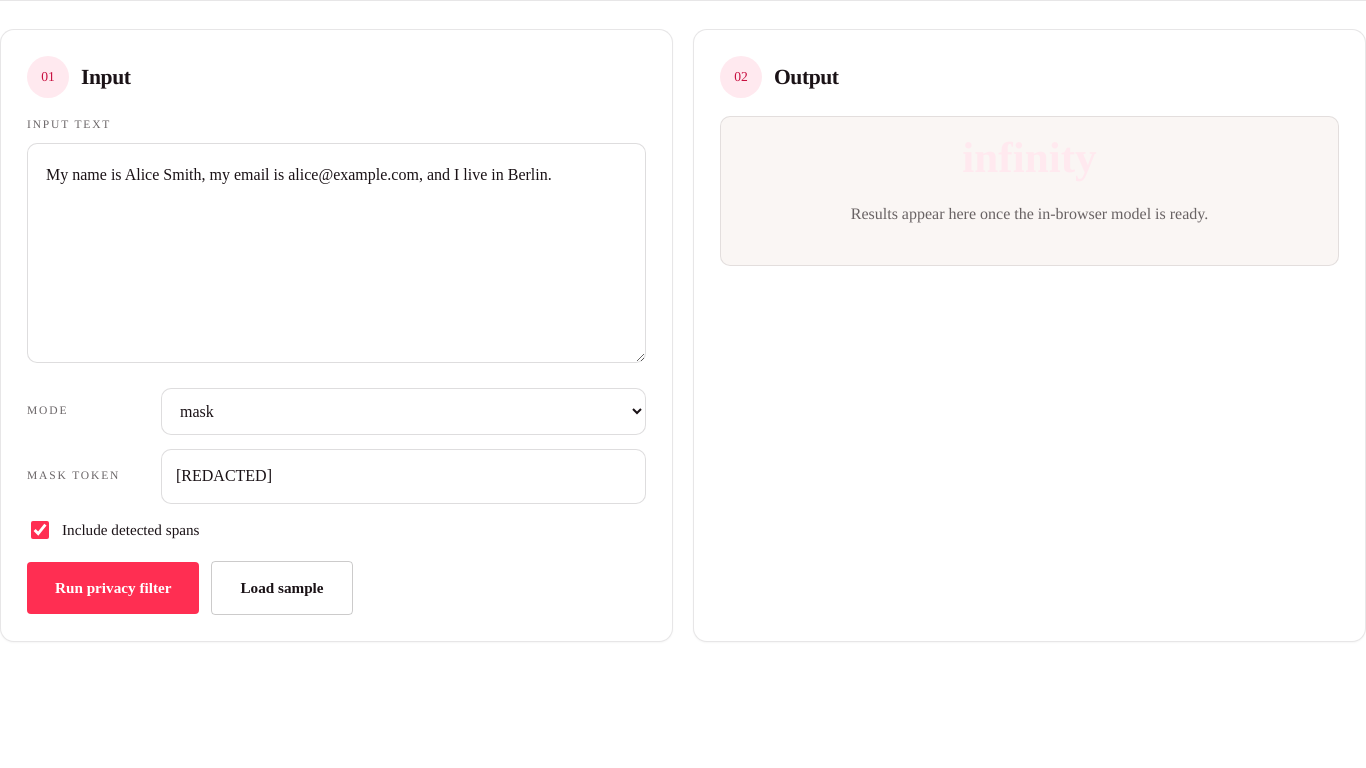
Test: consent gate: no download without agreement › does not touch the model CDN after declining
The image size is (1366, 768).
What coordinates should you click on to do the following:
click the button "Run privacy filter"
I would click on:
 (113, 588)
Its box is x1=27 y1=562 x2=199 y2=614.
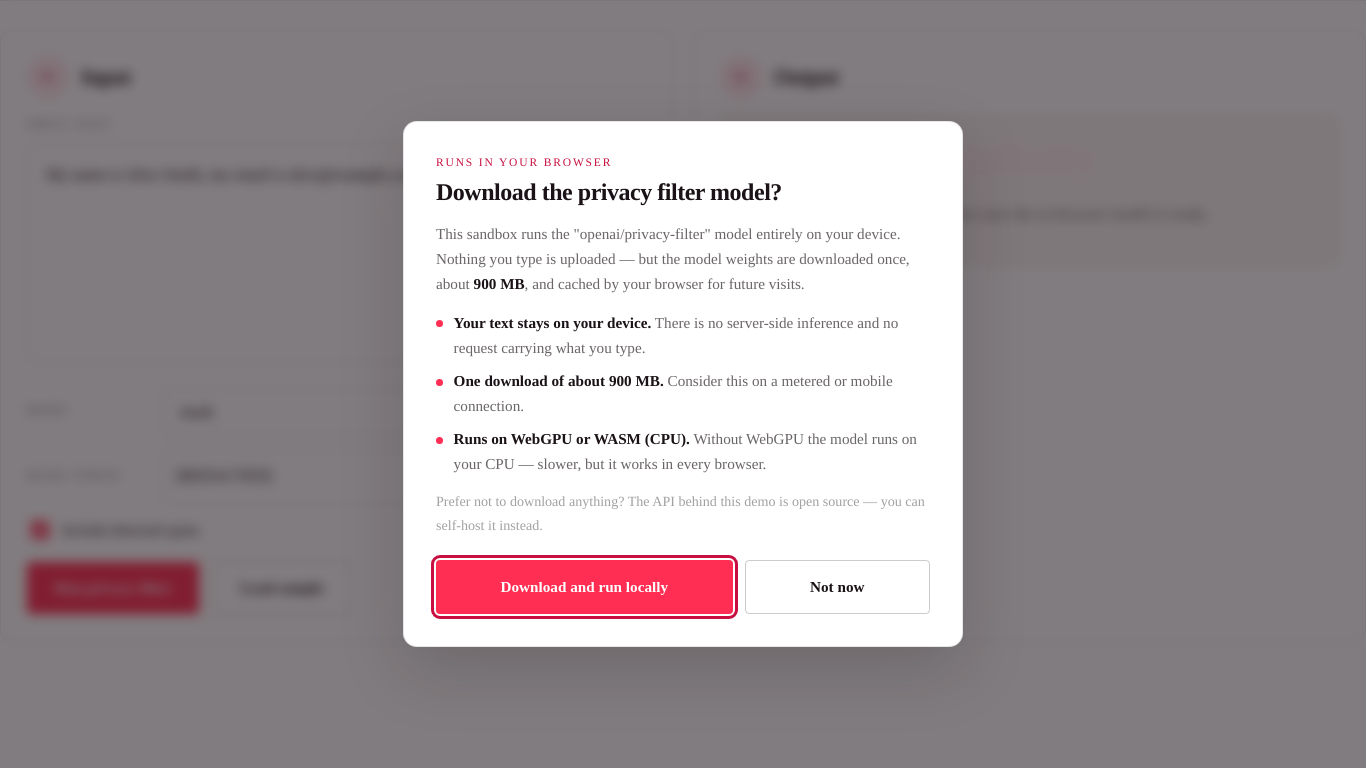
What coordinates should you click on to do the following:
click the button "Not now"
I would click on:
 (837, 587)
Its box is x1=744 y1=560 x2=930 y2=614.
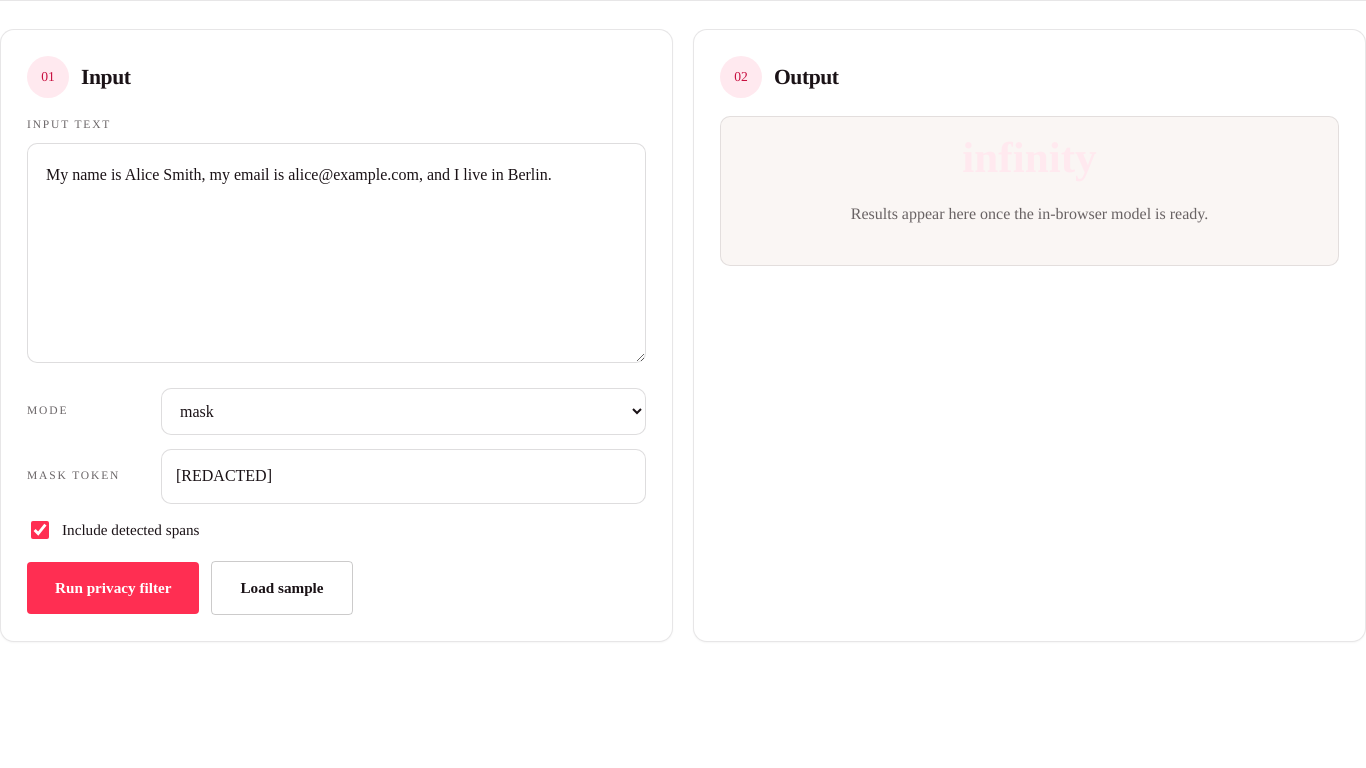
Now the dialog is gone
